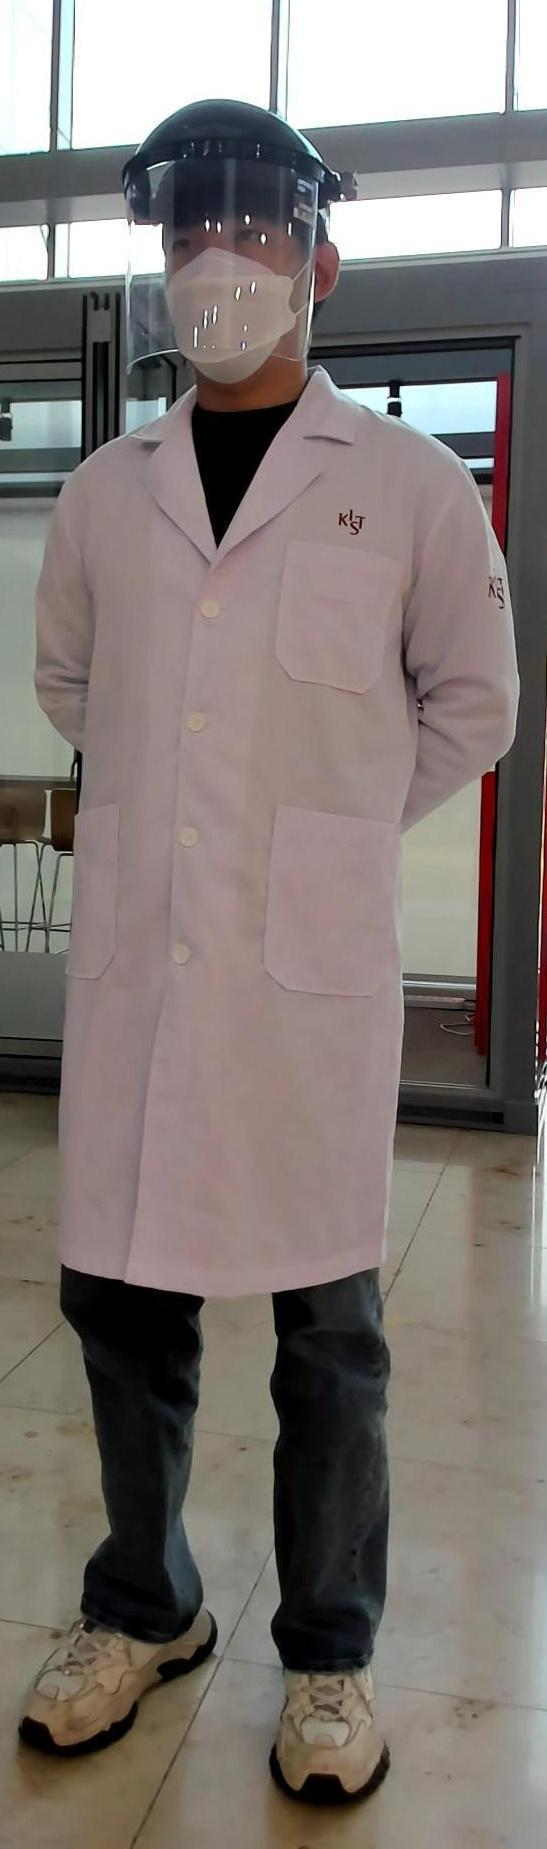lab_coat: (38, 441, 512, 1295)
